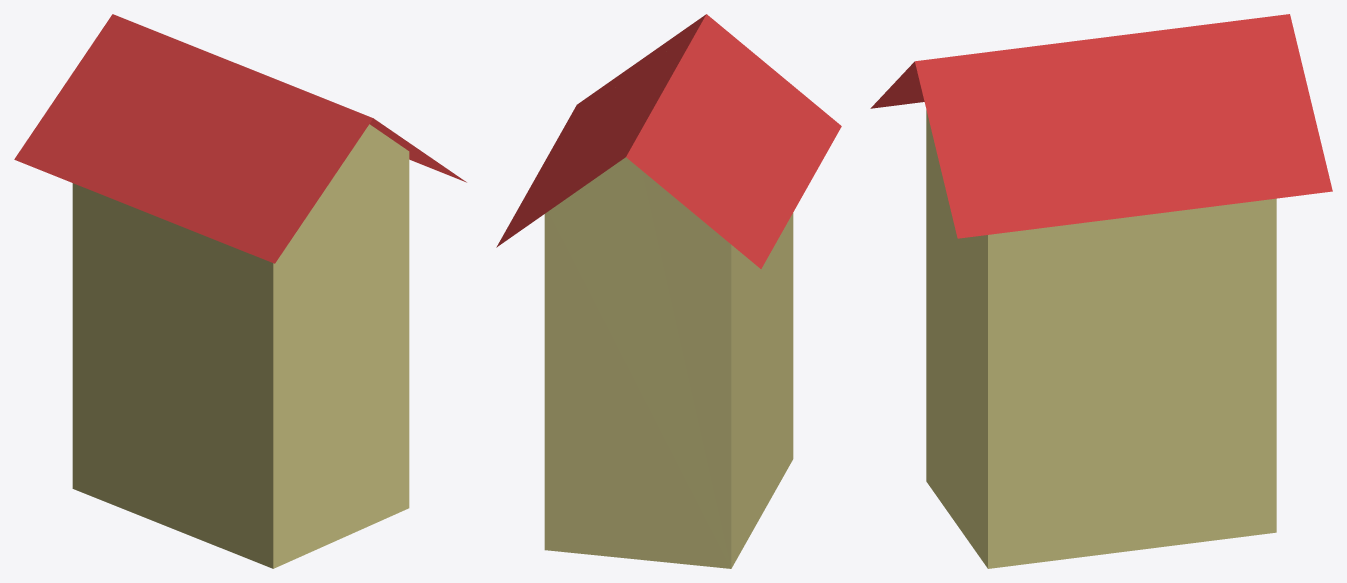
The picture shows the model from 3 angles, left to right: view 1: azimuth 30°, elevation 25°; view 2: azimuth 150°, elevation 25°; view 3: azimuth 270°, elevation 25°; orthographic projection. The views are drawn at different scales.
Size of the model in its own units: 8.97 by 10.24 by 11.49.
